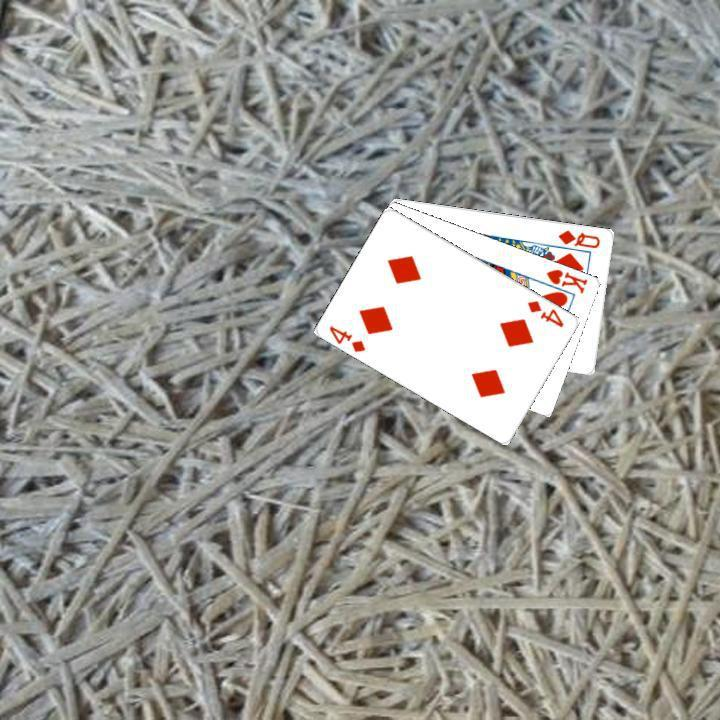4: (523, 296, 566, 329), (325, 321, 368, 354)
K: (542, 264, 590, 295)
Q: (554, 225, 602, 250)
